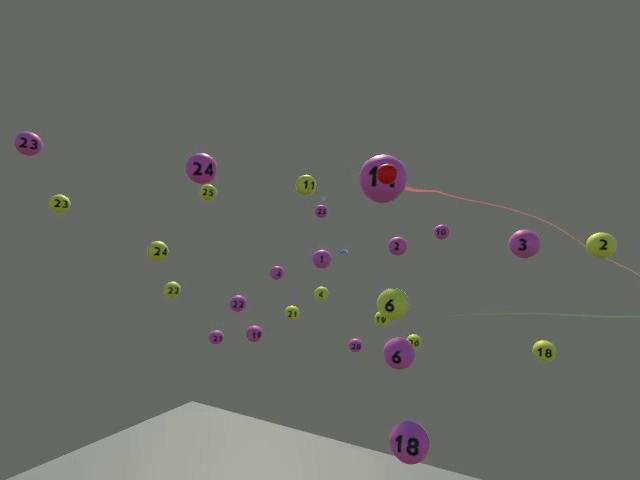ball_01_pink: (312, 247, 331, 267)
ball_02_pink: (387, 236, 406, 255)
ball_02_yellow: (585, 232, 617, 258)
ball_03_pink: (508, 228, 540, 258)
ball_04_pink: (270, 266, 284, 281)
ball_04_yellow: (314, 286, 328, 300)
ball_06_pink: (382, 336, 413, 369)
ball_06_yellow: (376, 287, 408, 320)
ball_10_pink: (433, 224, 449, 239)
ball_11_yellow: (295, 174, 316, 195)
ball_18_pink: (389, 420, 430, 465)
ball_18_yellow: (531, 339, 555, 362)
ball_19_pink: (245, 325, 262, 342)
ball_19_yellow: (374, 311, 389, 326)
ball_20_pink: (347, 338, 362, 353)
ball_21_pink: (208, 329, 224, 345)
ball_21_yellow: (284, 305, 300, 320)
ball_22_pink: (228, 295, 247, 312)
ball_22_yellow: (163, 281, 181, 298)
ball_23_pink: (14, 131, 43, 155)
ball_23_yellow: (48, 193, 71, 212)
ball_24_pink: (185, 152, 217, 183)
ball_24_yellow: (148, 241, 168, 260)
ball_25_pink: (314, 204, 327, 217)
ball_25_yellow: (199, 183, 217, 200)
ball_unknown: (358, 152, 407, 202), (406, 333, 421, 348)
user_cursor: (376, 163, 397, 184)
